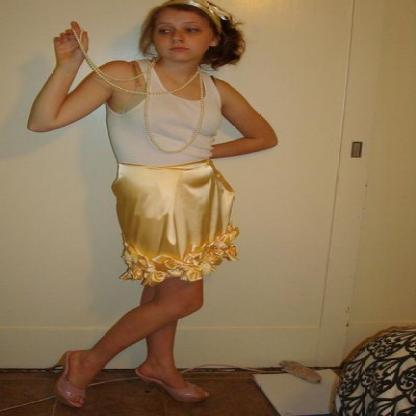shirt: (99, 51, 227, 169)
shoe: (55, 350, 198, 406)
skirt: (112, 163, 240, 284)
